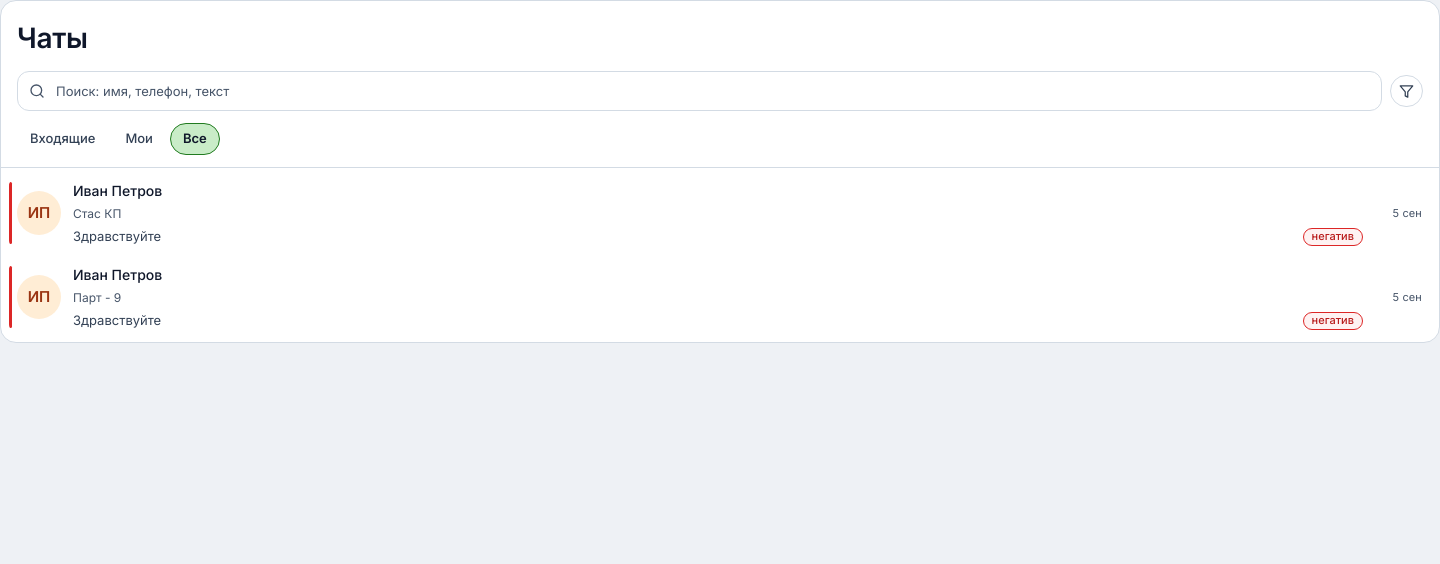
Test case: Набор полей фильтра по вкладкам › на «Все» есть состояние, ответственный и «ждут ответа»
Click the button named "Фильтры". click: (1406,91)
box: [1390,75,1423,107]
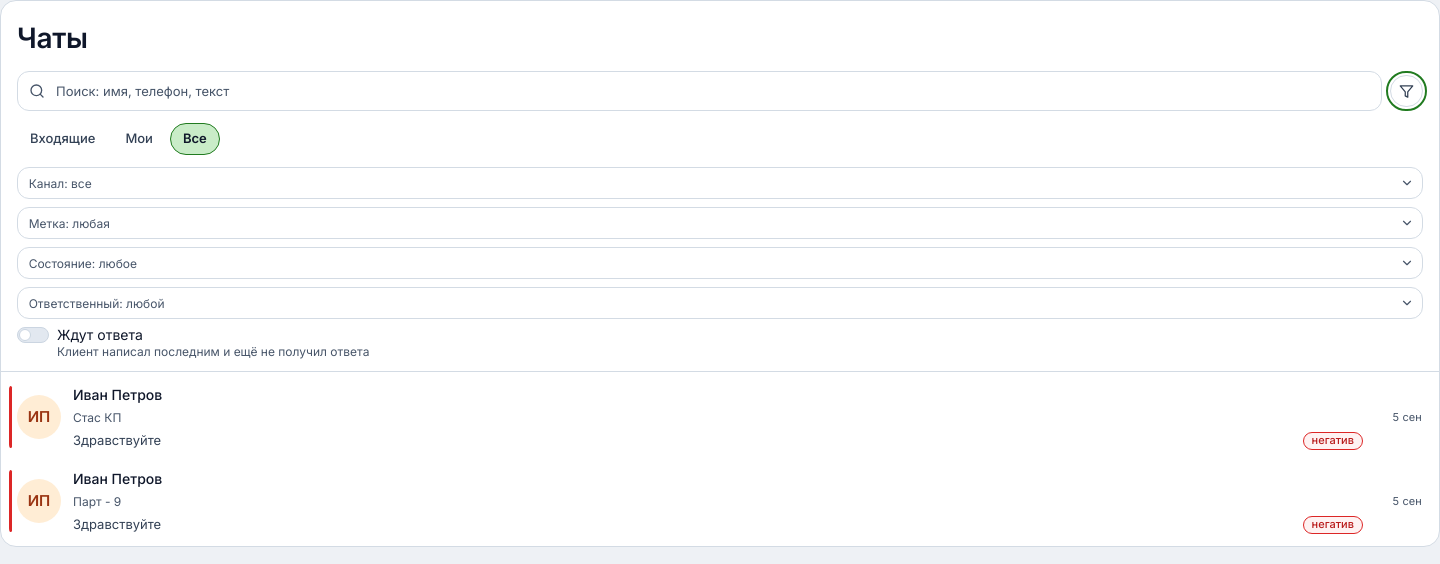
Now the field named "Фильтр по состоянию" is shown, box [17,247,1423,279]
Now the field named "Фильтр по ответственному" is shown, box [17,287,1423,319]
Now the switch labelled "Ждут ответа Клиент написал последним и ещё не получил ответа" is shown, box [17,326,369,359]
